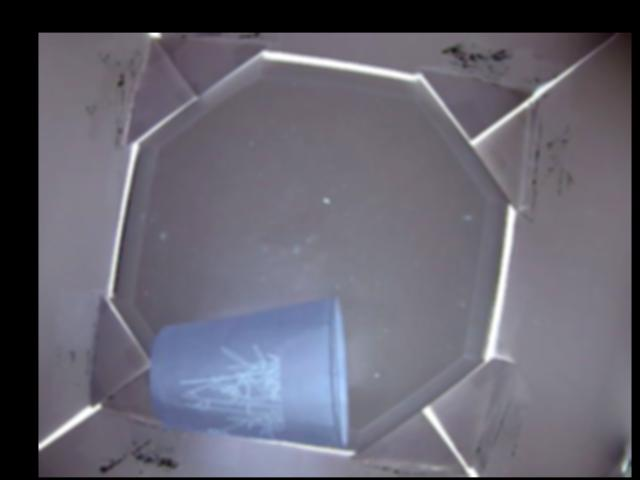Cup: (149, 298, 349, 446)
